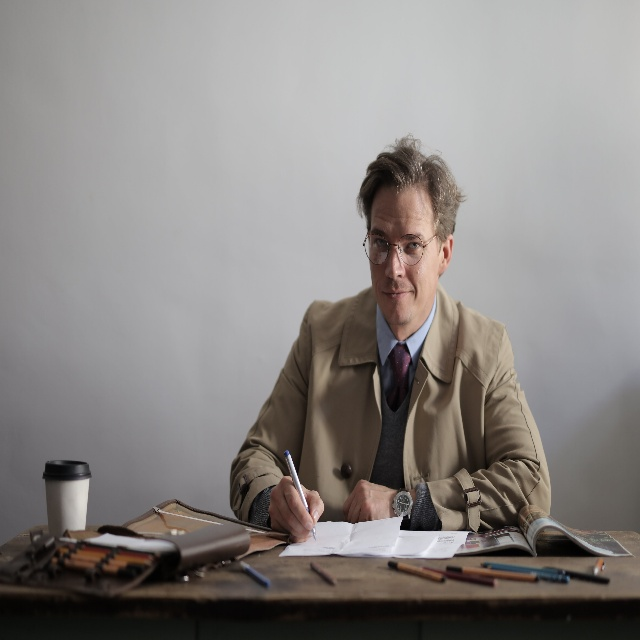Gafas: (363, 232, 439, 266)
Sin_guantes: (268, 475, 325, 542), (342, 478, 396, 522)
